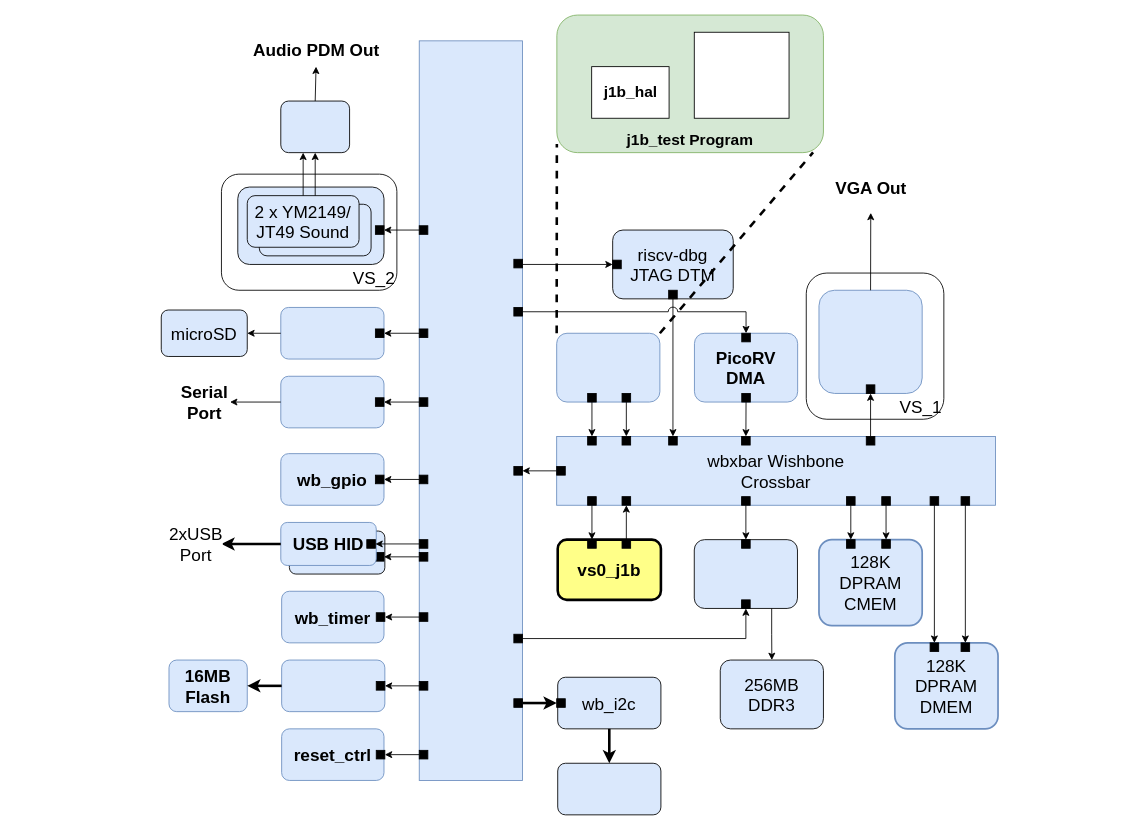
Image size: 1121x830. Some labels were removed from this diagram. The centre of each missing label's shape, as x and y in pixels:
"Audio DAC" goes at (x=315, y=126).
"Ibex RV32IMCB" goes at (x=608, y=367).
"j1b SwapForth Firmware Image" goes at (x=741, y=74).
"LiteDRAM MEMC" goes at (x=745, y=573).
"RTCC" goes at (x=609, y=788).
"sdspi" goes at (x=332, y=333).
"SPI Flash" goes at (x=333, y=685).
"VERA Graphics 128KB VRAM" goes at (x=870, y=341).
"wbuart32" goes at (x=332, y=401).
"wbxbar Wishbone Shared Bus" goes at (x=470, y=410).
